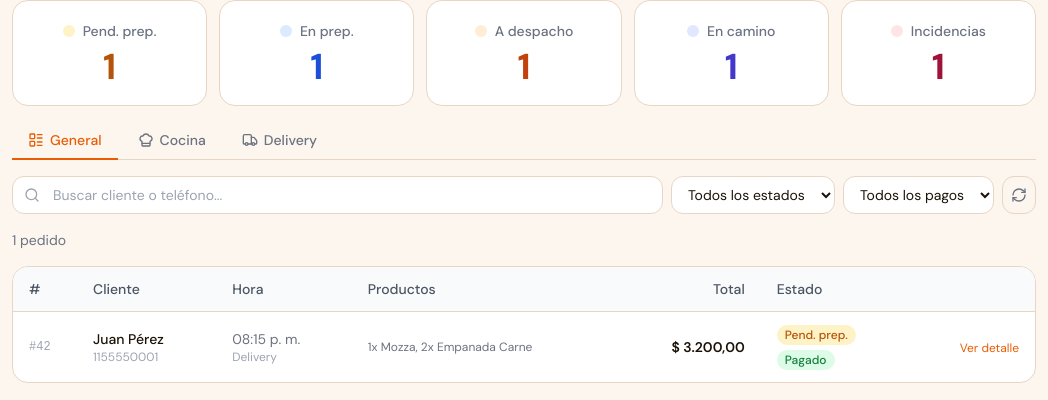
Scenario: TablaPedidos › filtra por búsqueda de texto localmente
The image size is (1048, 400).
Check: the text "Juan Pérez" is shown, box [93,330,164,348]
In the field with placeholder "Buscar cliente o teléfono...": (338, 195) [12,176,663,214], type "María"
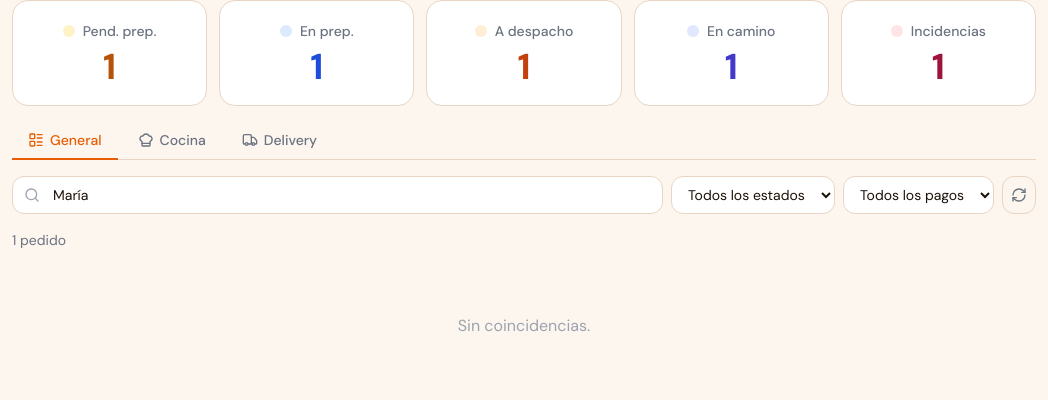
Check: the text "Juan Pérez" is gone
Check: the text "Sin coincidencias." is shown, box [458,315,590,336]
